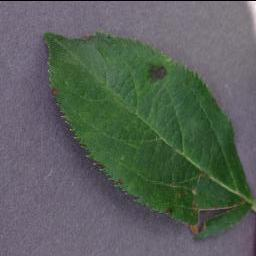apple healthy: (42, 29, 255, 240)
